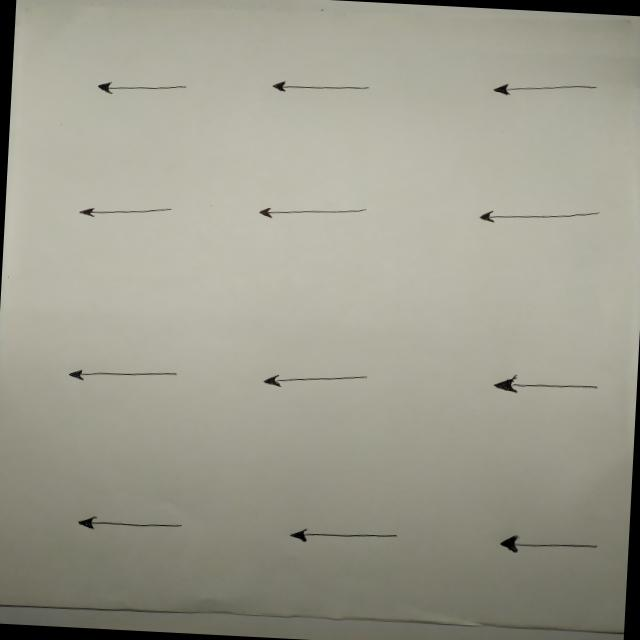arrow_line_left: (270, 520, 414, 556), (484, 524, 610, 563), (48, 361, 202, 392), (468, 202, 616, 232), (62, 510, 199, 542), (477, 371, 614, 401), (242, 199, 384, 226), (248, 367, 378, 394), (263, 76, 390, 102), (480, 75, 606, 101), (70, 196, 183, 224), (84, 75, 204, 100)
